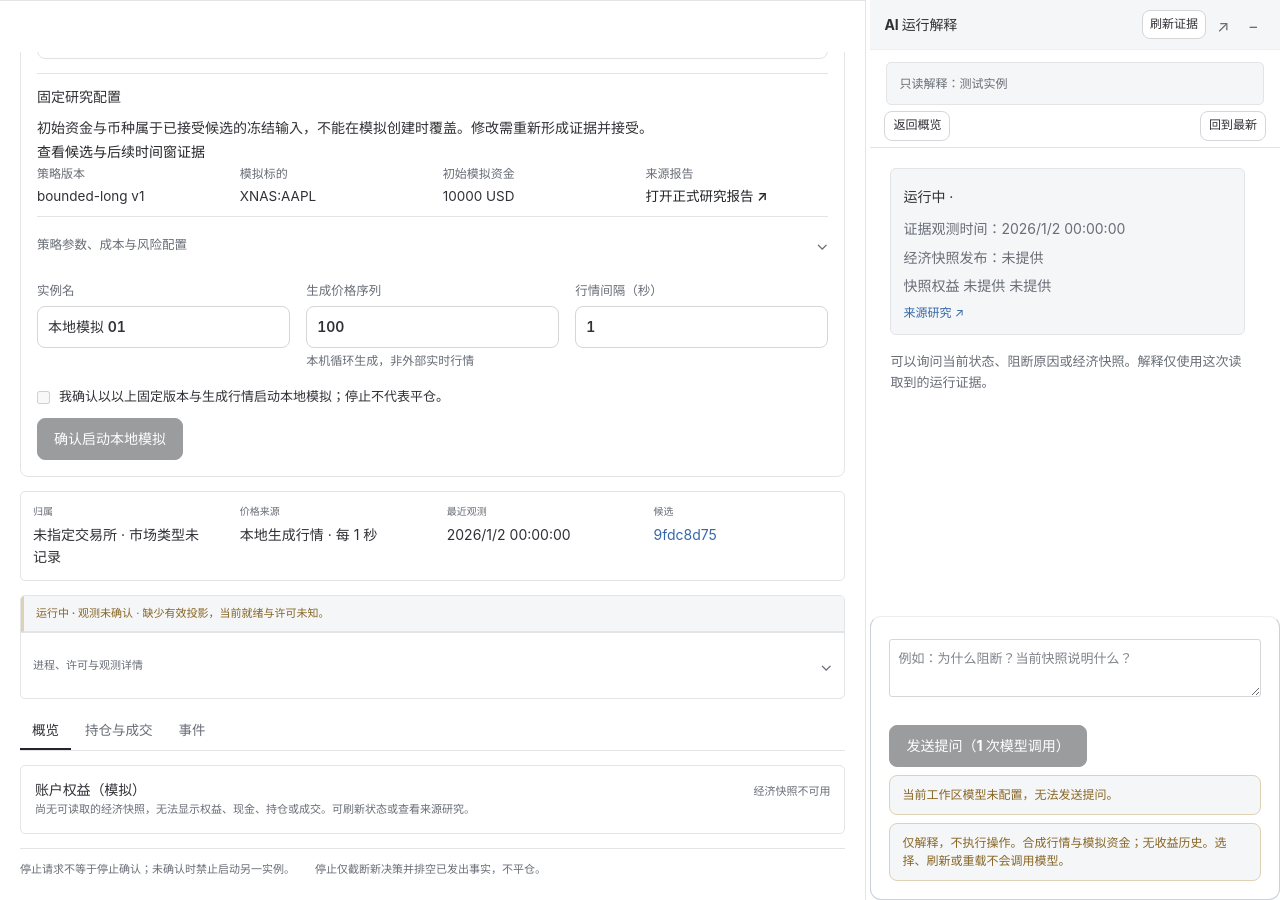
Test case: distinguishes unavailable economic evidence from a historical snapshot without invented placeholder balances
The image size is (1280, 900).
(page scrolled)
Expected: the text "经济快照不可用" is shown, [753,783,830,800]
Click the button "持仓与成交". click: (119, 731)
box: [73,713,164,750]
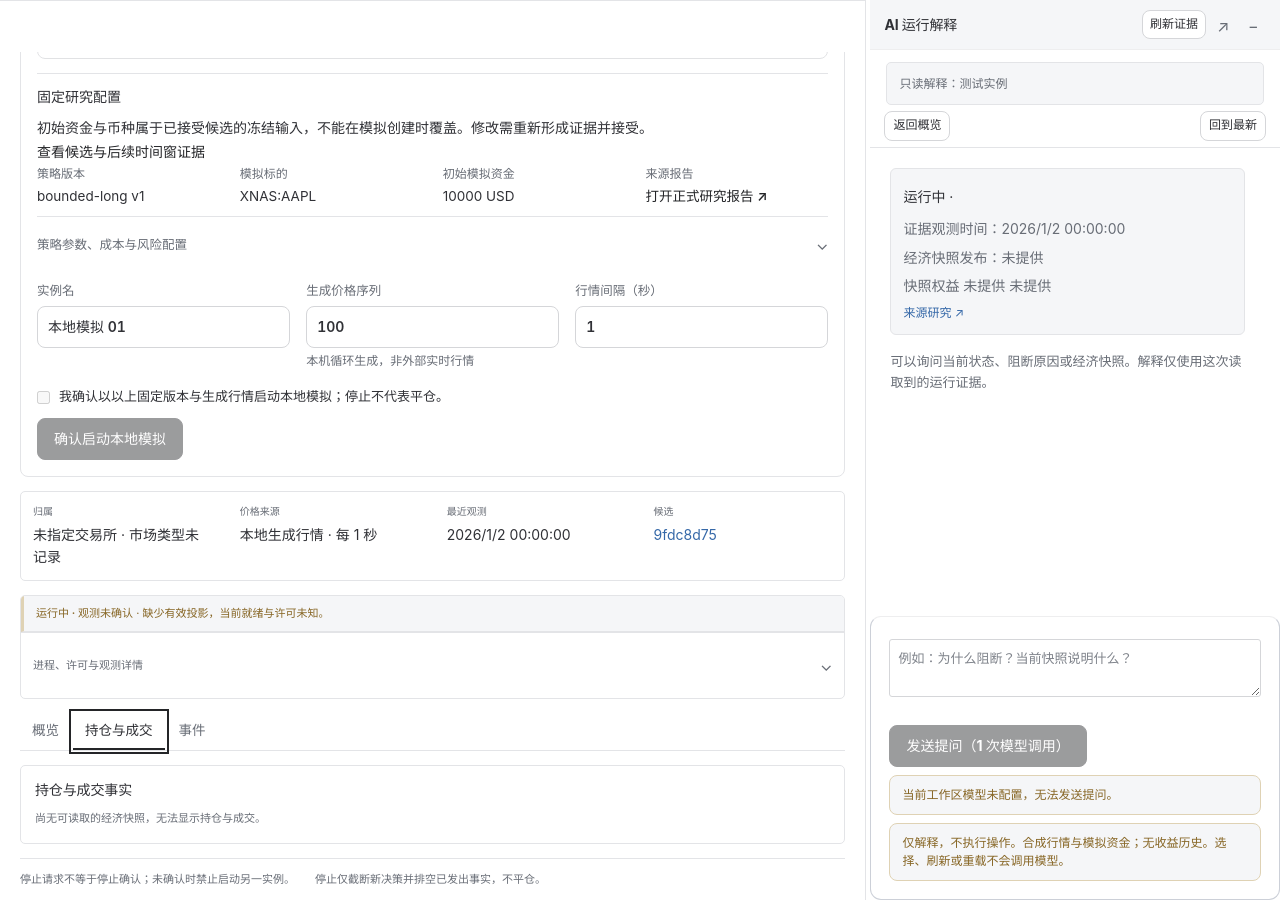
Now the element showing "持仓与成交事实 尚无可读取的经济快照，无法显示持仓与成交。" is shown, box [20,765,845,844]
